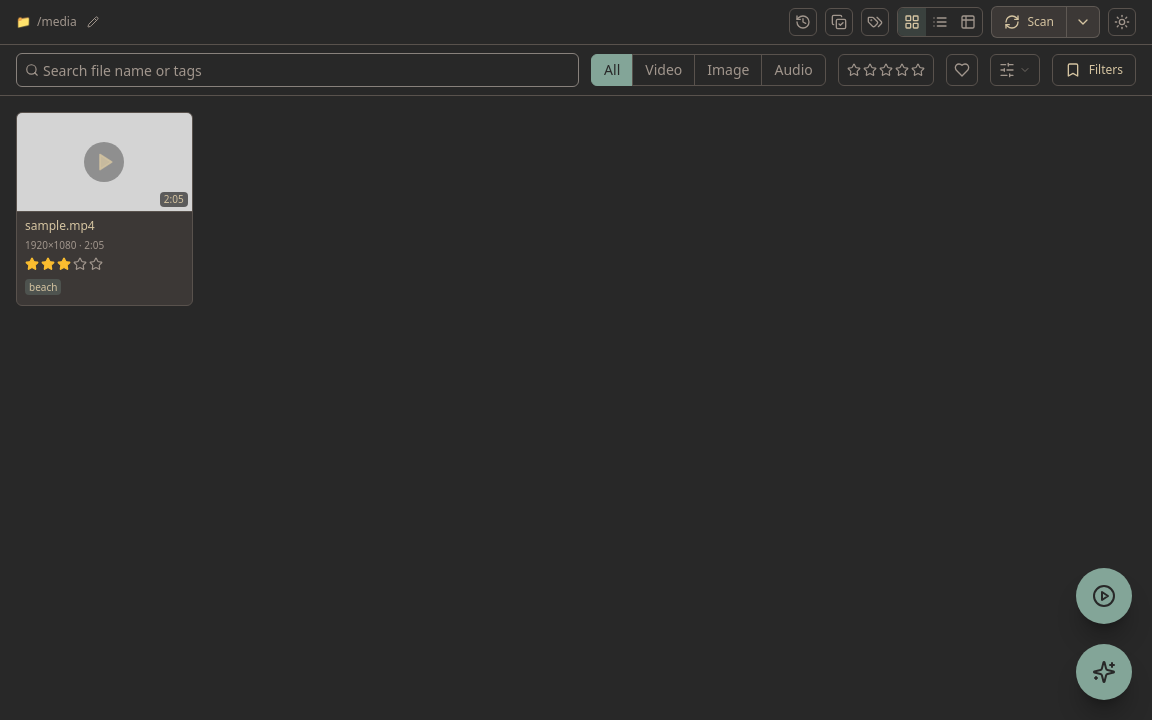
Home + MediaDetail integration › tag chips › puts an exact-tag directive in the search box, not the bare word
The image size is (1152, 720).
What coordinates should you click on to do the following:
click the button "beach"
I would click on:
 (43, 287)
Its box is [25,279,61,295].
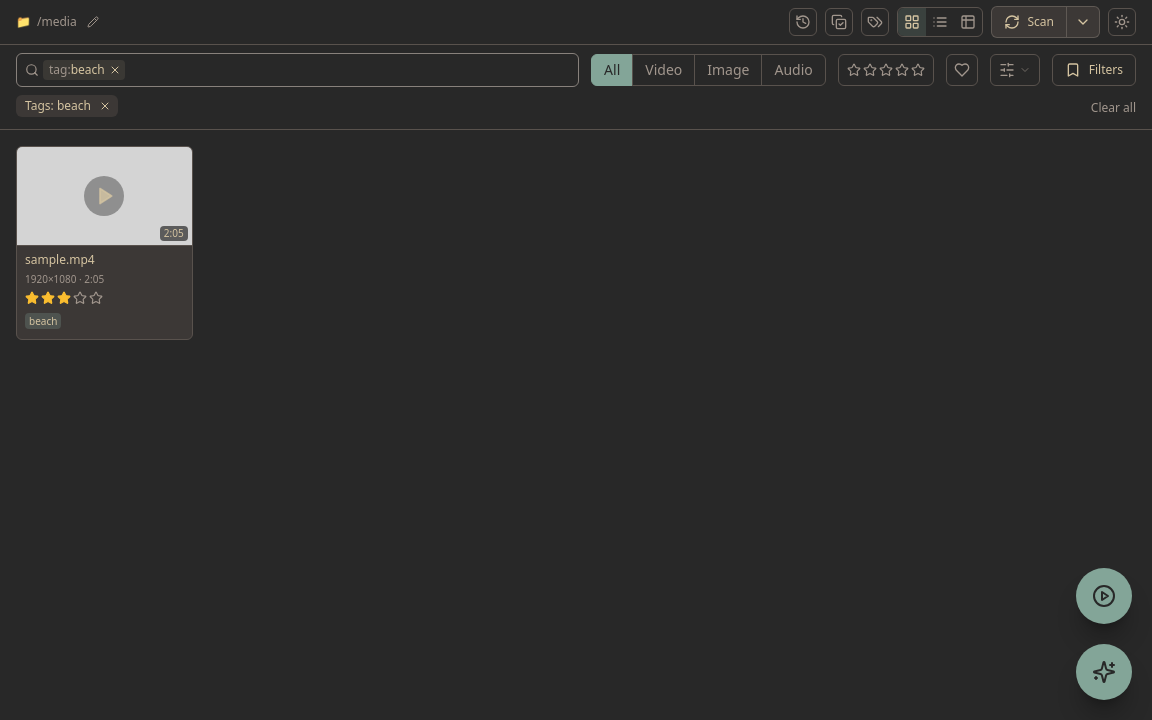
Expected: the dropdown with id "list-search-input" is empty, [129,58,570,82]
Expected: the element showing "tag:beach" is shown, [49,62,105,78]
Expected: the element titled "Tags: beach" is shown, [43,60,125,80]
